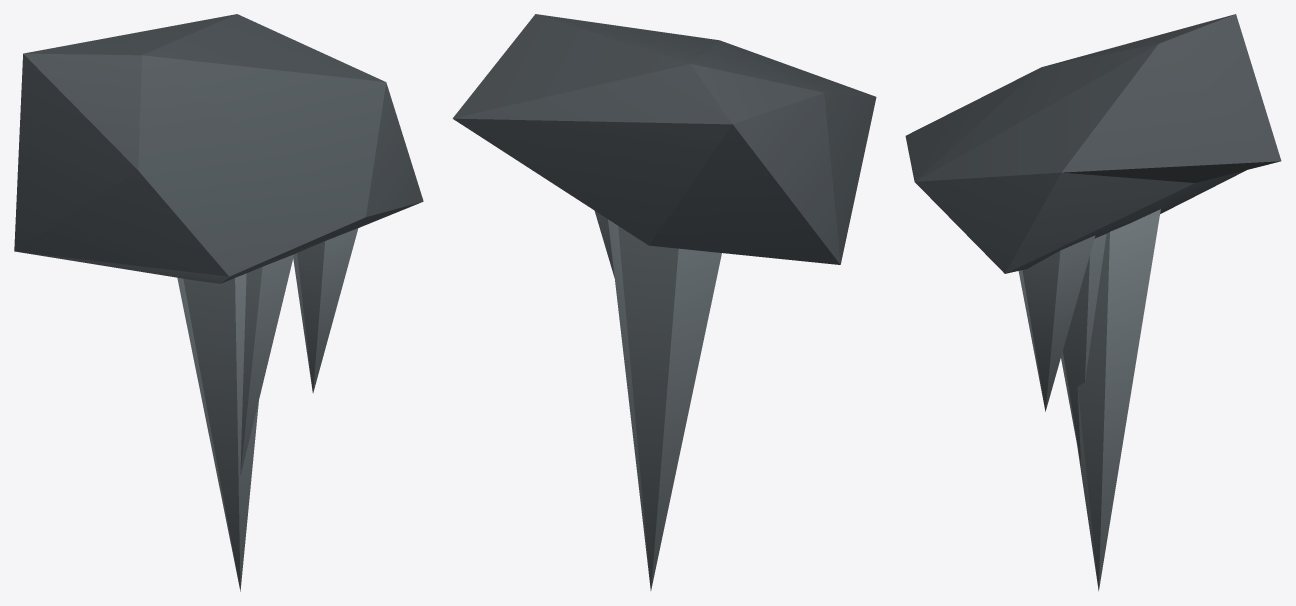
Rendered from stalactite_b.glb.
The picture shows the model from 3 angles, left to right: view 1: azimuth 30°, elevation 25°; view 2: azimuth 150°, elevation 25°; view 3: azimuth 270°, elevation 25°; orthographic projection. The views are drawn at different scales.
Visible parts, largest first — view 1: stalactite_b; view 2: stalactite_b; view 3: stalactite_b.
Boxes of the visible parts, x1,y1,x2,y2 form: stalactite_b: (14,14,423,591); stalactite_b: (452,14,876,590); stalactite_b: (905,14,1281,591).
Bounding box in the file's own units: 1.28 × 1.92 × 1.27.
1 material, 1 textured.
